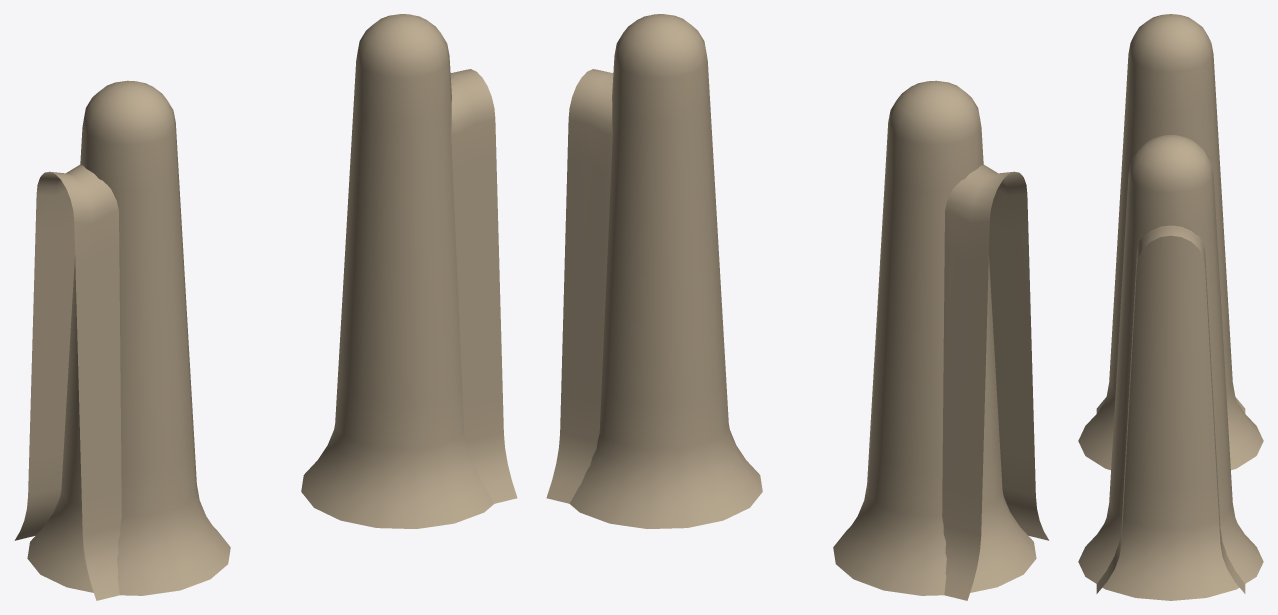
The model's file is KFB_Wall_gate.r1.glb.
3 renders of one model, left to right at view 1: azimuth 30°, elevation 25°; view 2: azimuth 150°, elevation 25°; view 3: azimuth 270°, elevation 25°, orthographic. The views are drawn at different scales.
Visible parts, largest first — view 1: KFB_Wall_gate; view 2: KFB_Wall_gate; view 3: KFB_Wall_gate.
Part boxes in pixels (<box>): KFB_Wall_gate: <box>14,14,517,600</box>; KFB_Wall_gate: <box>546,14,1049,600</box>; KFB_Wall_gate: <box>1078,14,1263,600</box>.
Size of the model in its own units: 4.29 by 4.25 by 1.69.
